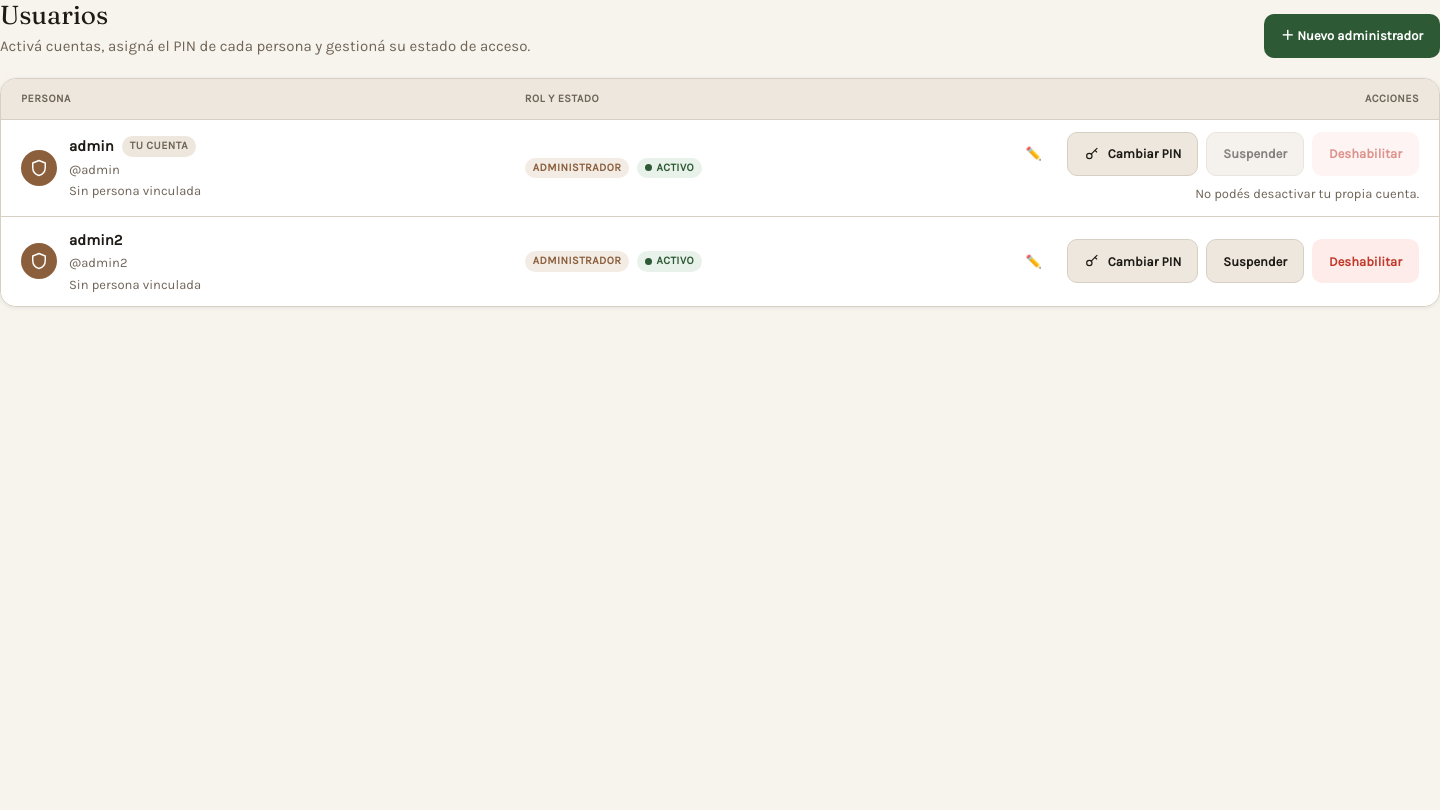
Scenario: AdminUsersScreen › el 409 de la carrera (último activo / cuenta propia) se muestra en español sin cerrar el diálogo
Click the 2nd button "Suspender". click: (1255, 261)
box: [1206,239,1304,283]
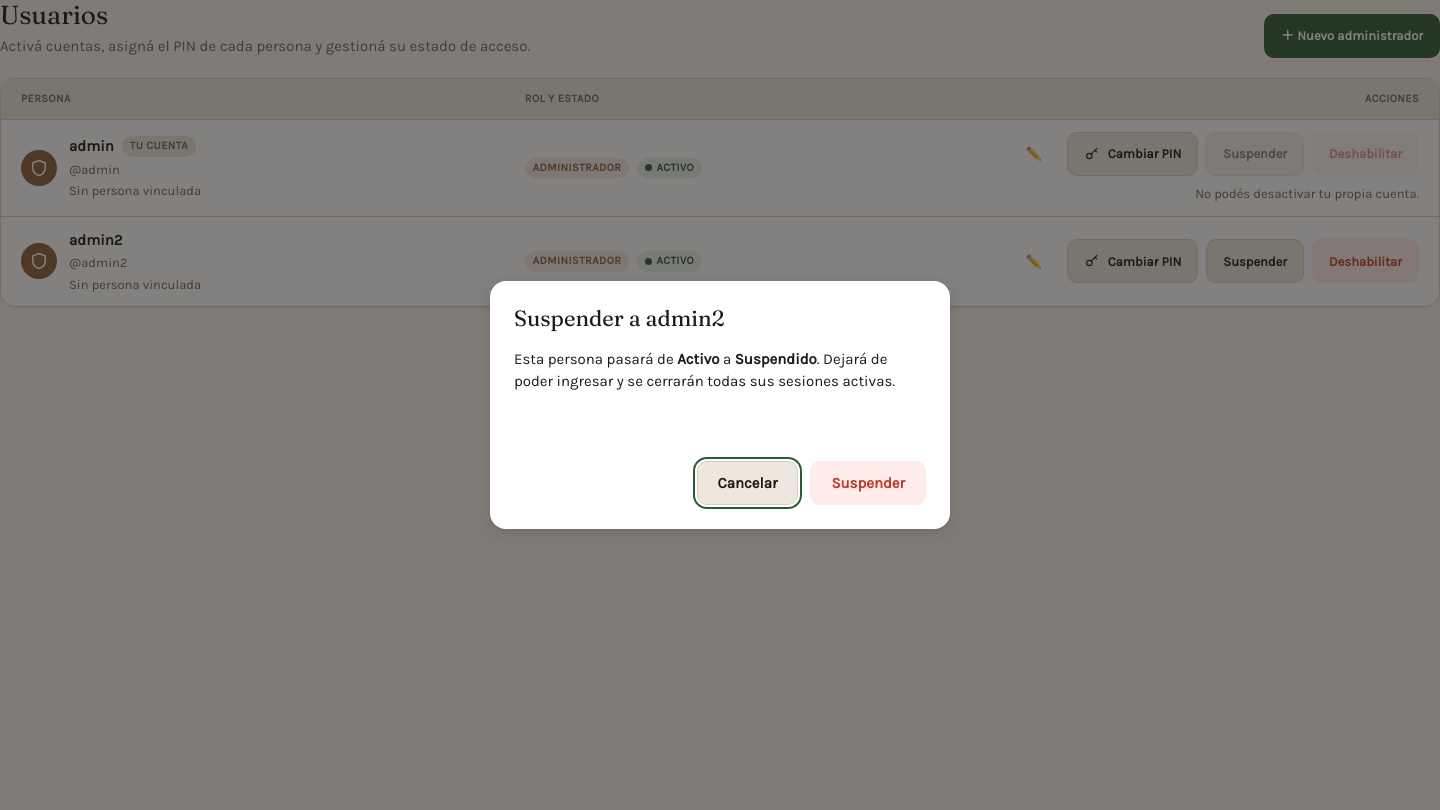
Click the button "Suspender". click: (868, 483)
box: [810,461,926,505]
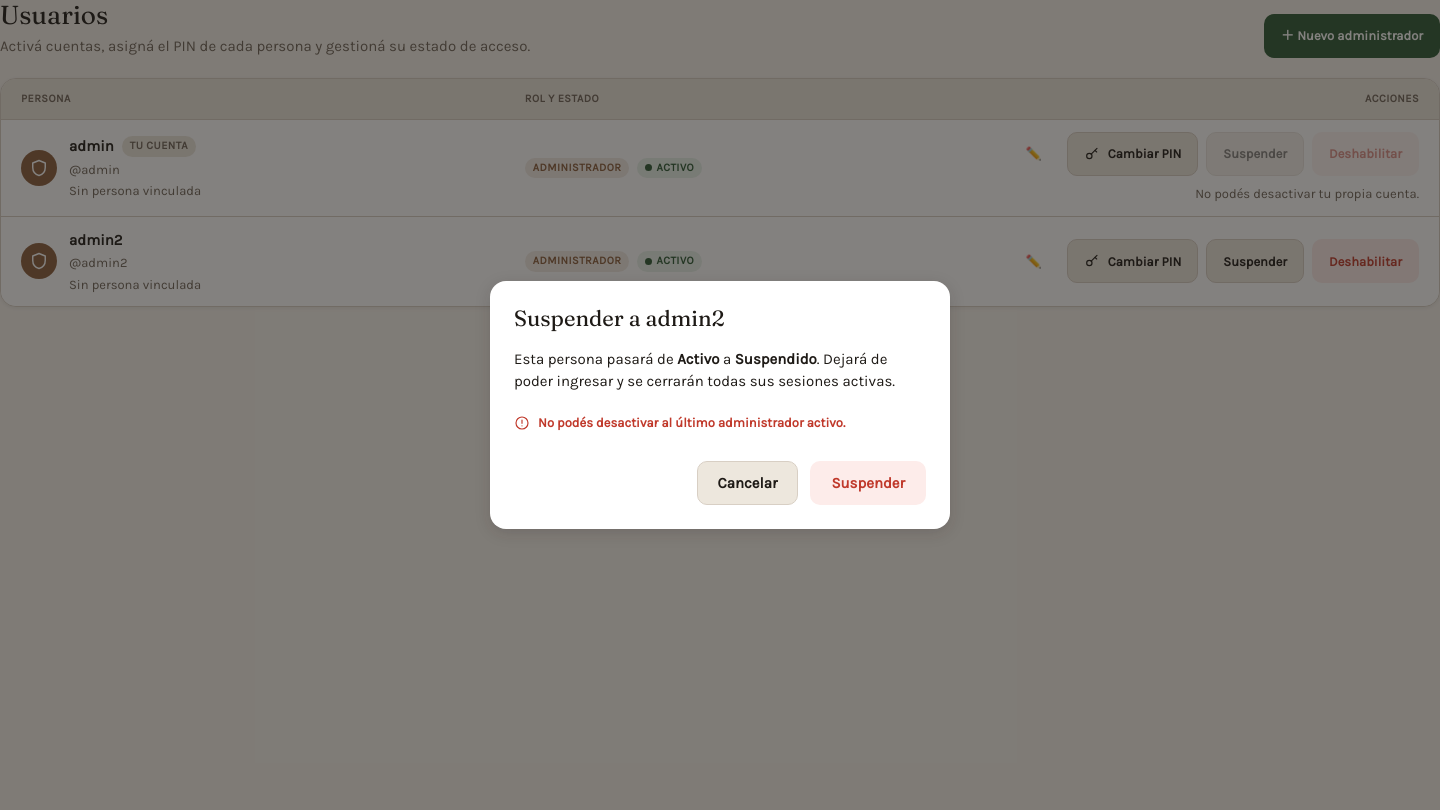
Now the message reads "No podés desactivar al último administrador activo.", box [538,415,845,430]
